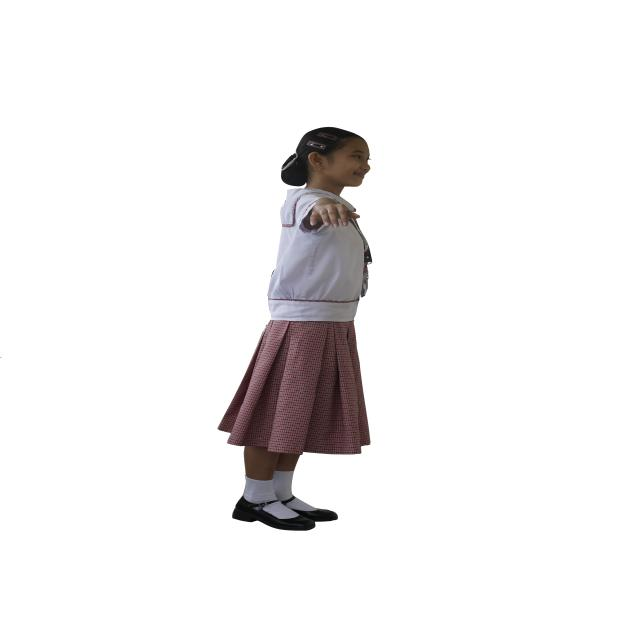pologirl: (266, 187, 368, 319)
shoes: (218, 320, 369, 453)
skirt: (235, 494, 338, 529)
